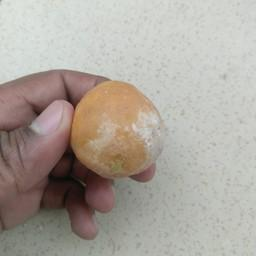Bad_apple: (67, 78, 169, 184)
